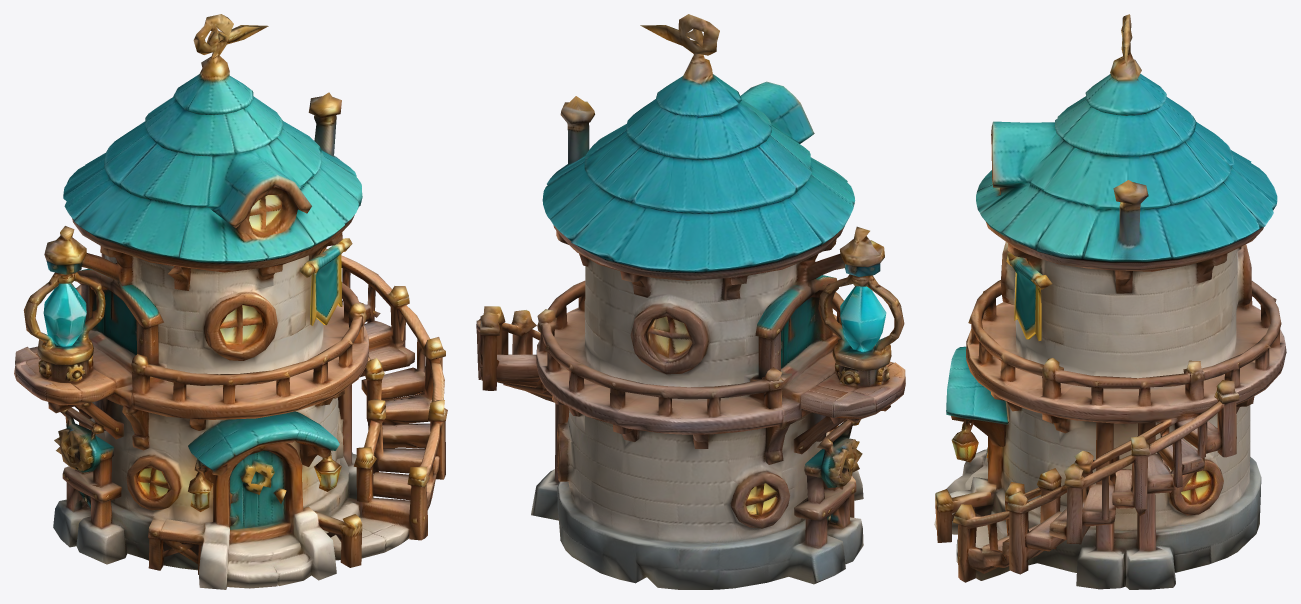
File: X_HouseB_HD.glb
The picture shows the model from 3 angles, left to right: view 1: azimuth 30°, elevation 25°; view 2: azimuth 150°, elevation 25°; view 3: azimuth 270°, elevation 25°; orthographic projection. The views are drawn at different scales.
Parts seen in each view (by area): view 1: tripo_node_af51e8da-27c8-4567-80b6-ceb5db07660f; view 2: tripo_node_af51e8da-27c8-4567-80b6-ceb5db07660f; view 3: tripo_node_af51e8da-27c8-4567-80b6-ceb5db07660f.
Boxes of the visible parts, x1=… form: tripo_node_af51e8da-27c8-4567-80b6-ceb5db07660f: x1=14, y1=14, x2=447, y2=589; tripo_node_af51e8da-27c8-4567-80b6-ceb5db07660f: x1=476, y1=14, x2=905, y2=589; tripo_node_af51e8da-27c8-4567-80b6-ceb5db07660f: x1=934, y1=14, x2=1286, y2=589.
Size of the model in its own units: 0.8158 by 0.9781 by 0.6195.
1 material, 1 textured.
